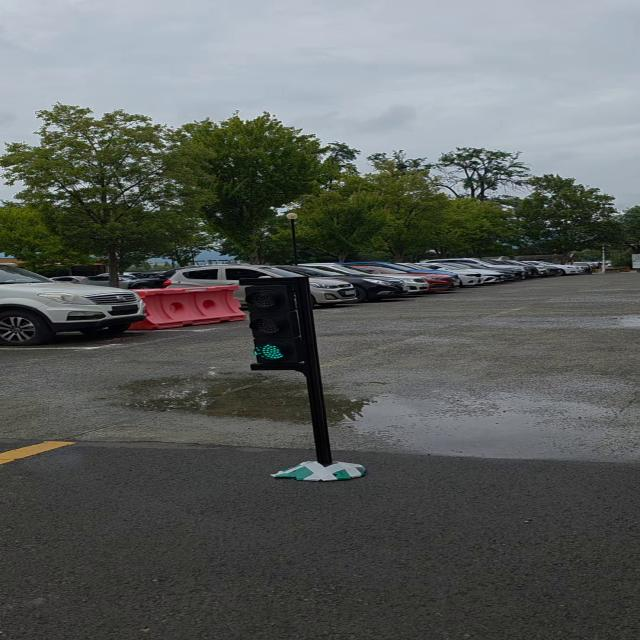green: (243, 278, 317, 370)
